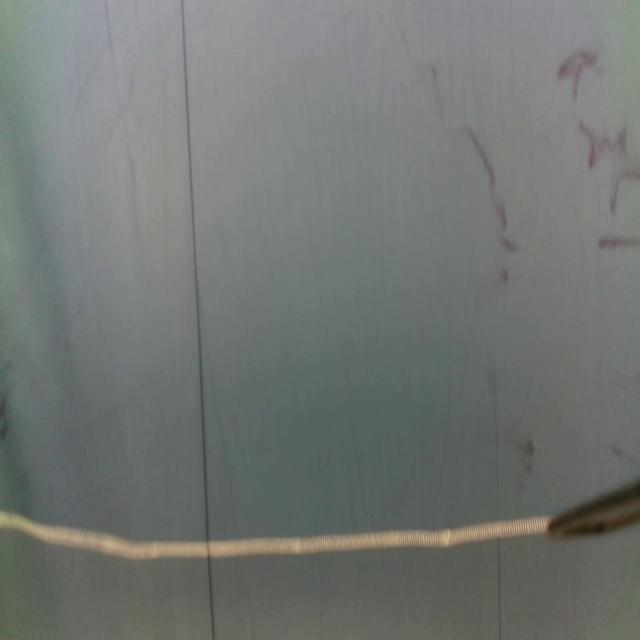crease: (180, 0, 215, 636), (496, 534, 503, 639)
